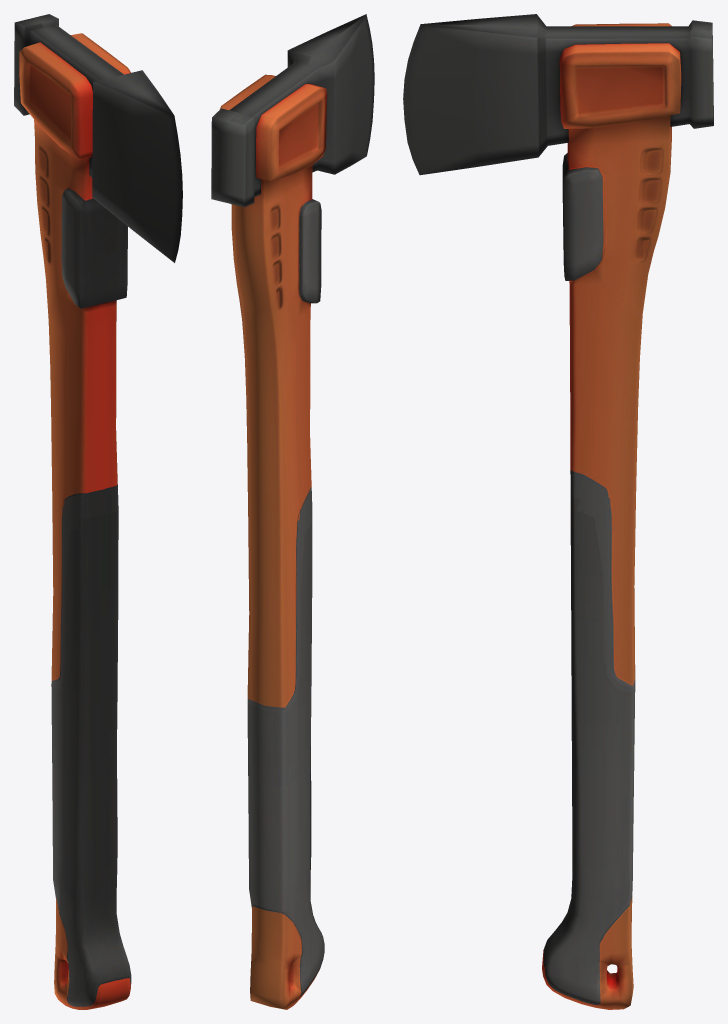
Rendered from PlasticFireaxe.glb.
3 renders of one model, left to right at view 1: azimuth 30°, elevation 25°; view 2: azimuth 150°, elevation 25°; view 3: azimuth 270°, elevation 25°, orthographic. The views are drawn at different scales.
Visible parts, largest first — view 1: CompositeAxe_LOD0; view 2: CompositeAxe_LOD0; view 3: CompositeAxe_LOD0.
Part boxes in pixels (<box>): CompositeAxe_LOD0: <box>14,14,182,1009</box>; CompositeAxe_LOD0: <box>211,14,374,1009</box>; CompositeAxe_LOD0: <box>403,14,713,1009</box>.
Size of what is drawn, in the model's own units: 0.061 by 0.935 by 0.2693.
1 material, 1 textured.
